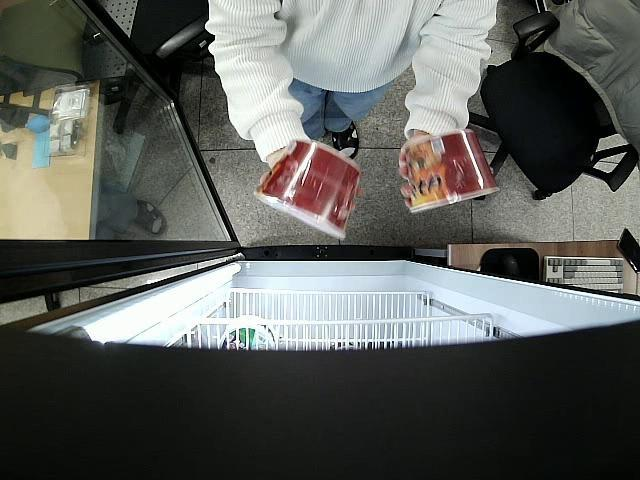05_nuguri_L: (252, 136, 360, 242), (409, 130, 502, 214)
